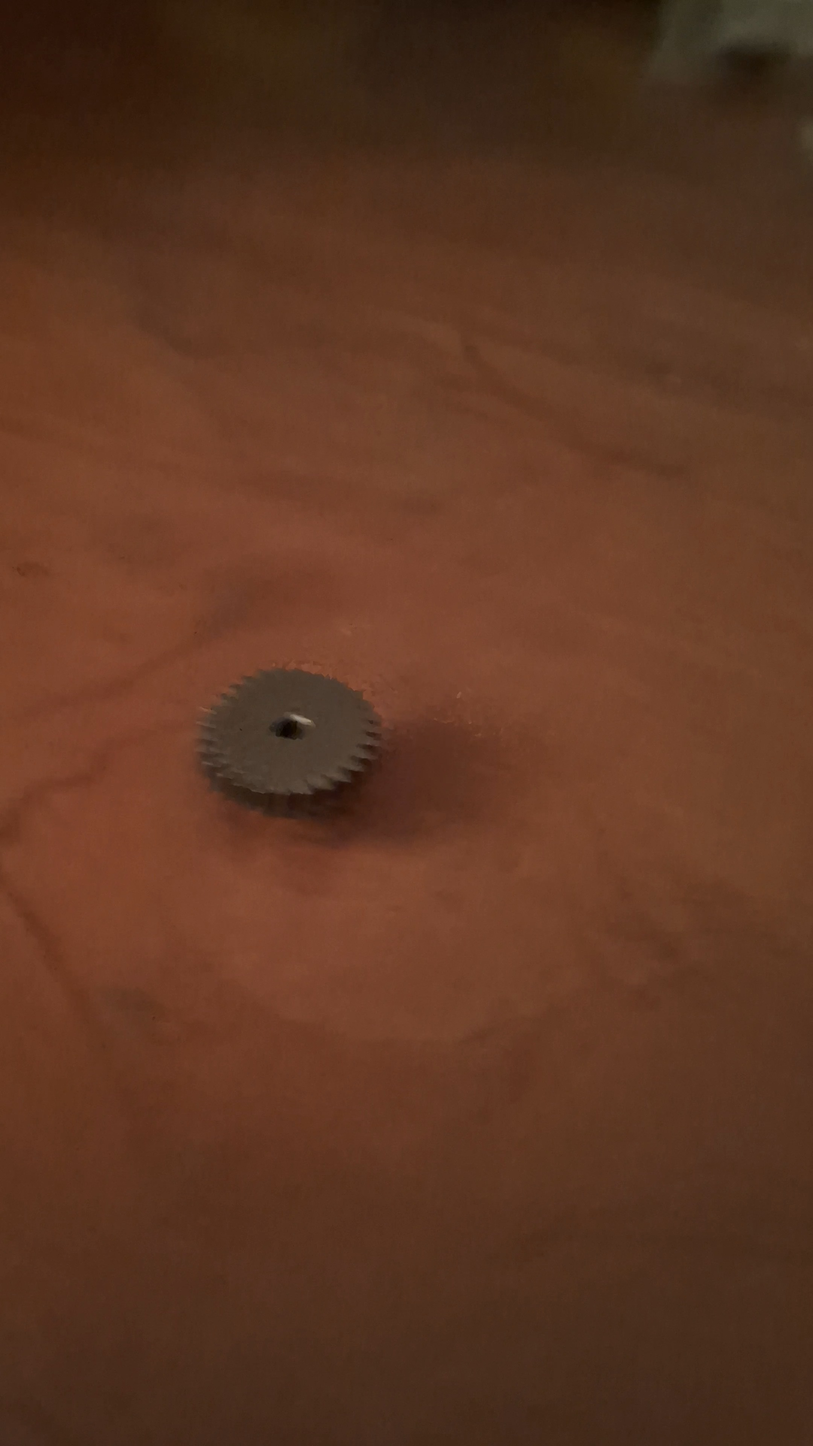spur gear: (199, 668, 381, 815)
